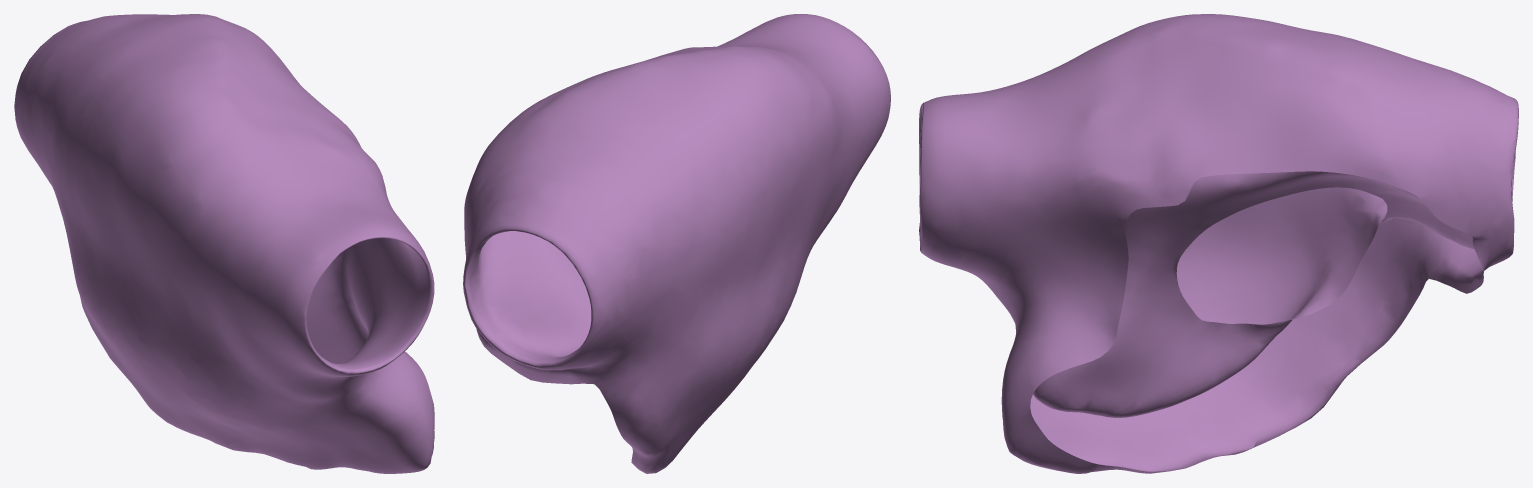
3 views of the same model, side by side, from view 1: azimuth 30°, elevation 25°; view 2: azimuth 150°, elevation 25°; view 3: azimuth 270°, elevation 25° (orthographic). The views are drawn at different scales.
Visible parts, largest first — view 1: 右心房; view 2: 右心房; view 3: 右心房.
Boxes of the visible parts, left/top/right/bottom form: 右心房: left=14, top=14, right=434, bottom=473; 右心房: left=463, top=14, right=890, bottom=473; 右心房: left=919, top=14, right=1518, bottom=473.
Size of the model in its own units: 0.0658 by 0.1086 by 0.1453.
